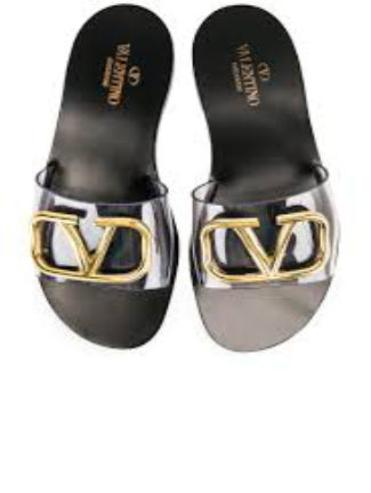VALENTINO: (182, 202, 350, 288), (29, 193, 164, 273)
